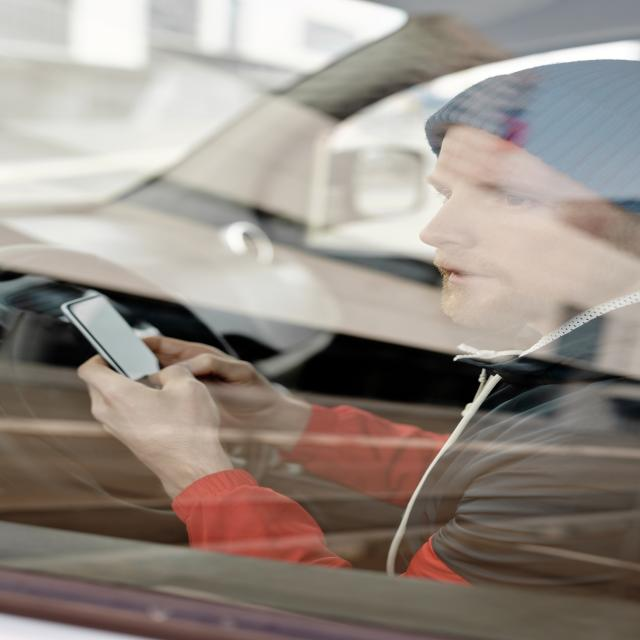phone: (60, 290, 168, 393)
